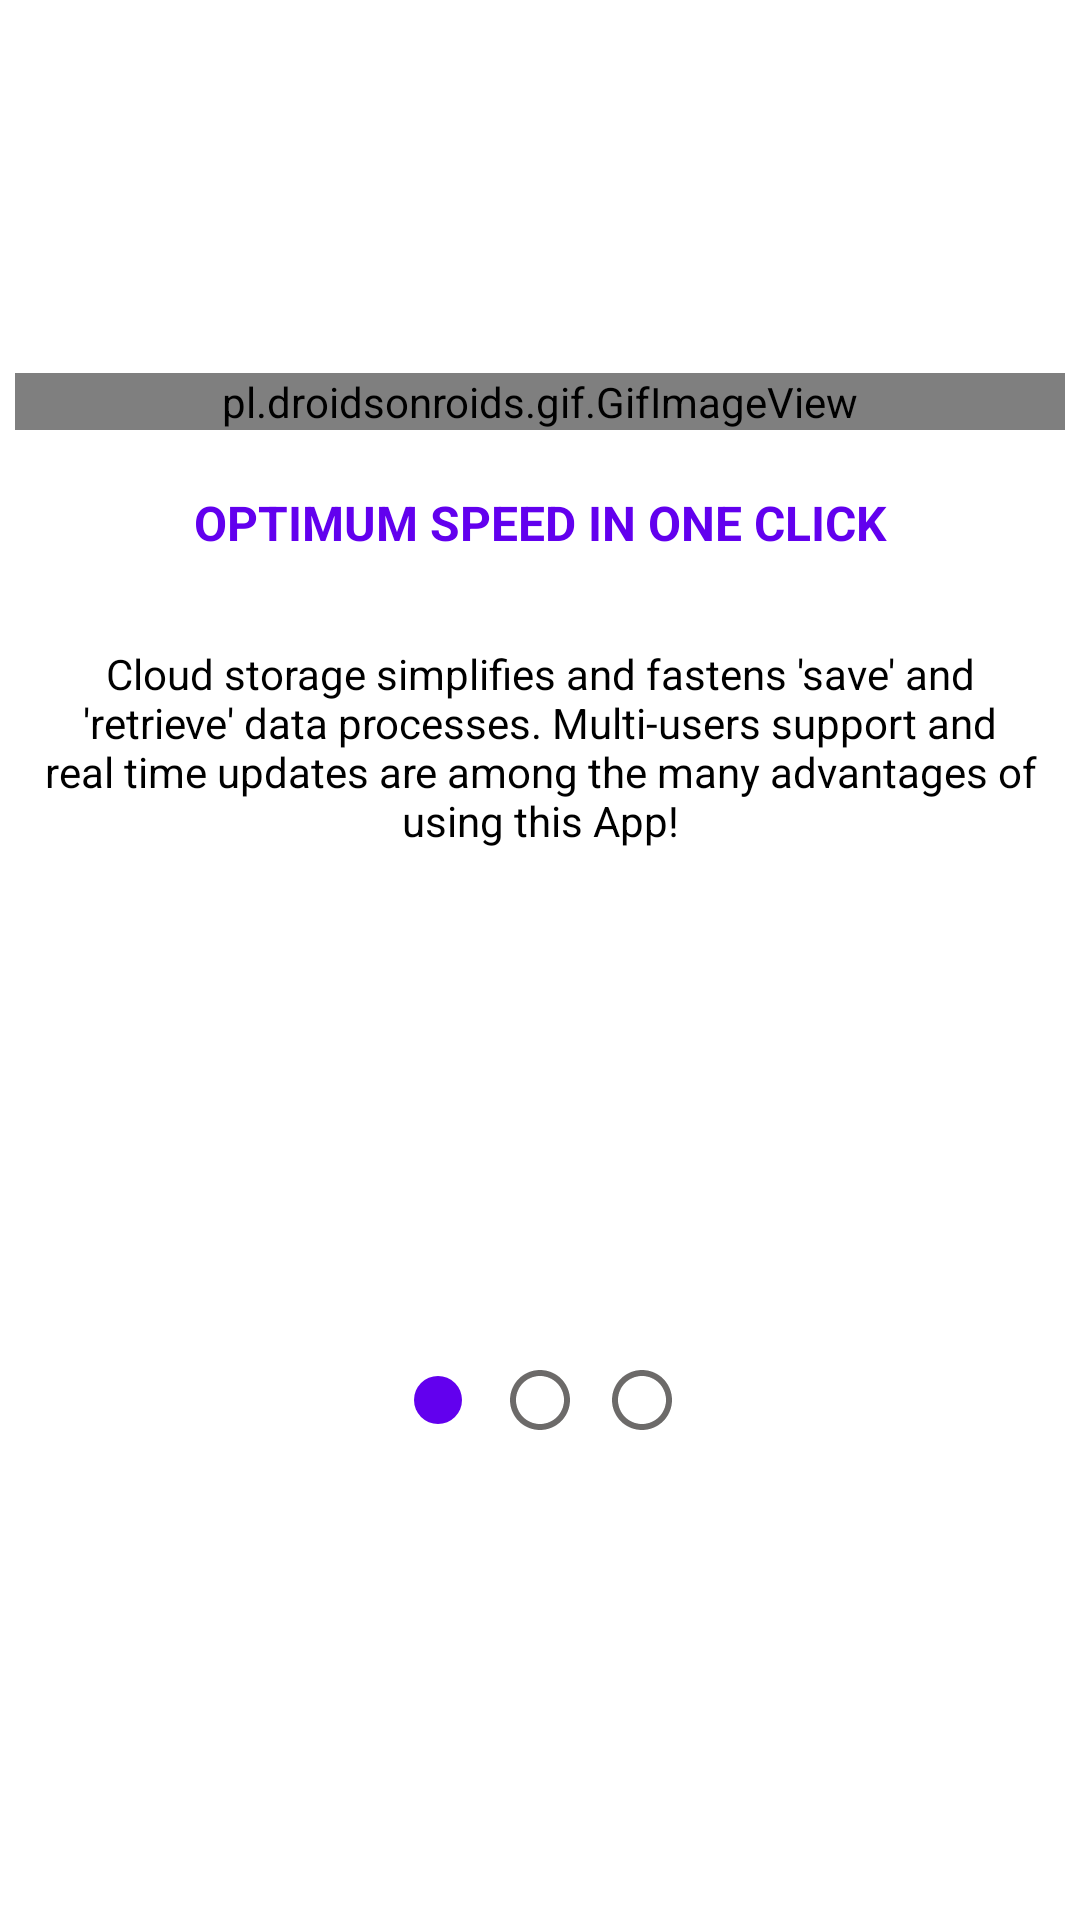

Icon bounding boxes for this 1080 x 1920 phone screenshot, format (x1, y1, x2, y2):
checked: (414, 1376, 462, 1424)
unchecked: (510, 1370, 570, 1430), (612, 1370, 672, 1430)
